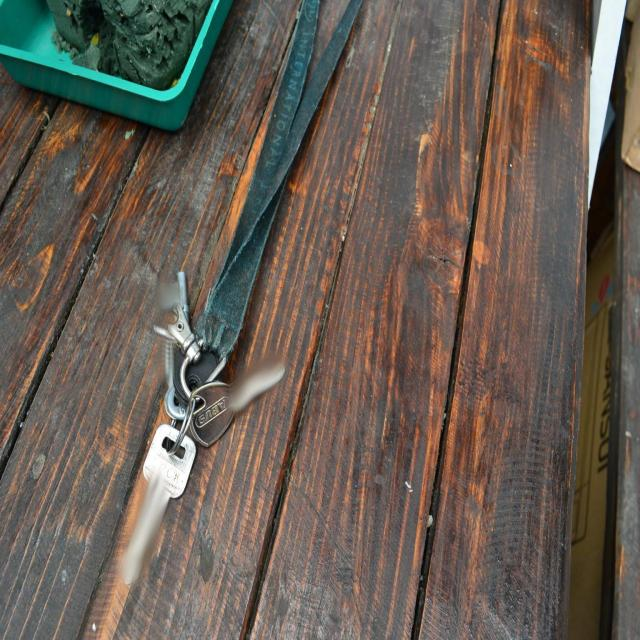Frontdoor keys: (118, 424, 197, 588), (189, 355, 288, 449)
